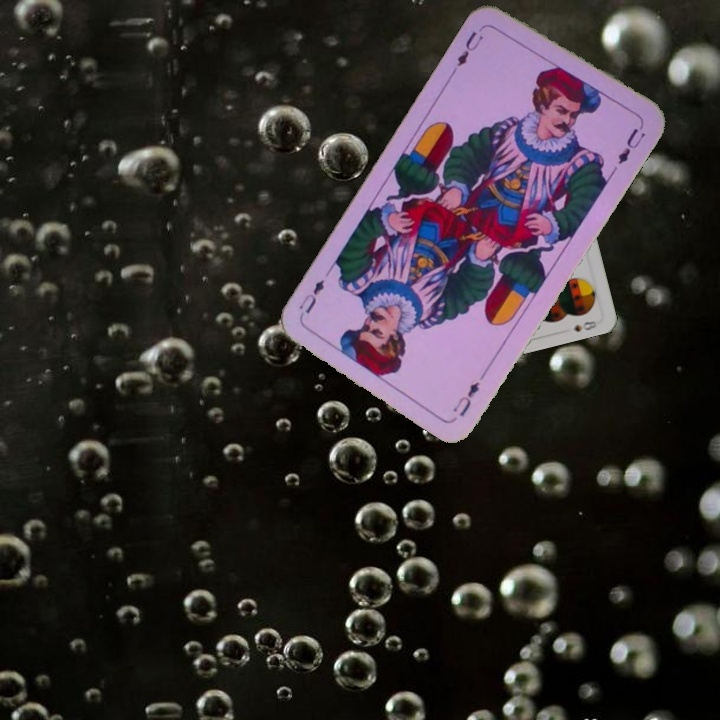EU: (452, 27, 486, 70), (448, 377, 482, 419)
